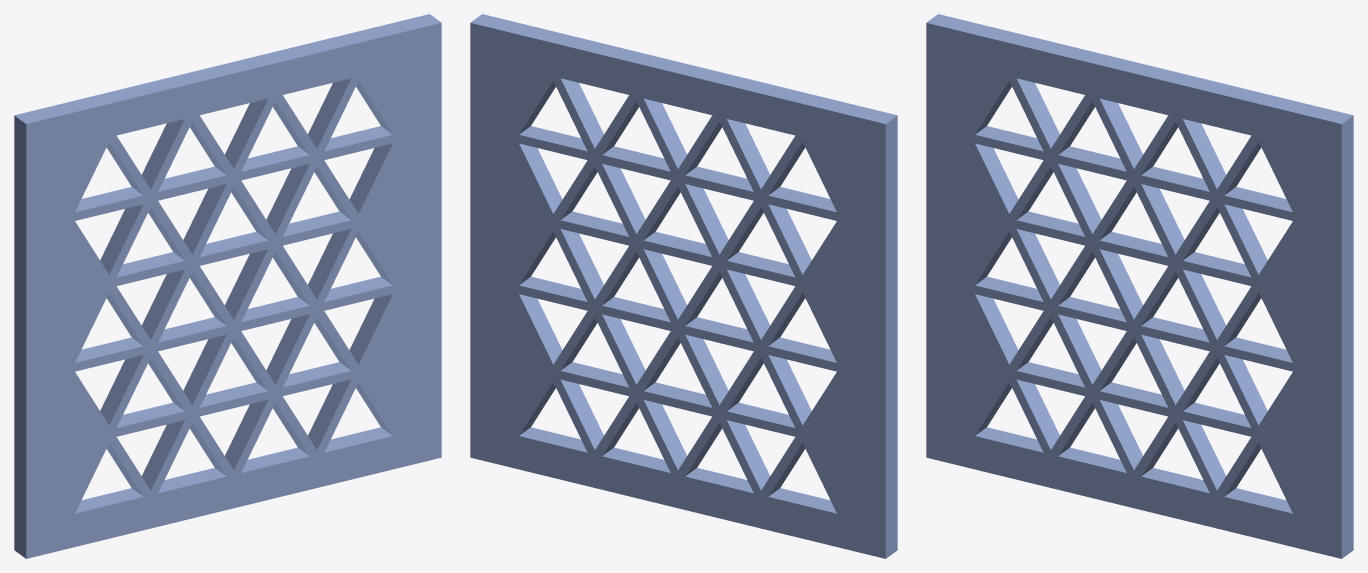
Rendered from isogrid_panel_demo.glb.
3 renders of one model, left to right at view 1: azimuth 30°, elevation 25°; view 2: azimuth 150°, elevation 25°; view 3: azimuth 330°, elevation 25°, orthographic.
Parts seen in each view (by area): view 1: isogrid_panel; view 2: isogrid_panel; view 3: isogrid_panel.
Boxes of the visible parts, left/top/right/bottom form: isogrid_panel: left=14, top=14, right=441, bottom=558; isogrid_panel: left=470, top=14, right=897, bottom=558; isogrid_panel: left=926, top=14, right=1353, bottom=558.
Size of the model in its own units: 60 by 60 by 3.
